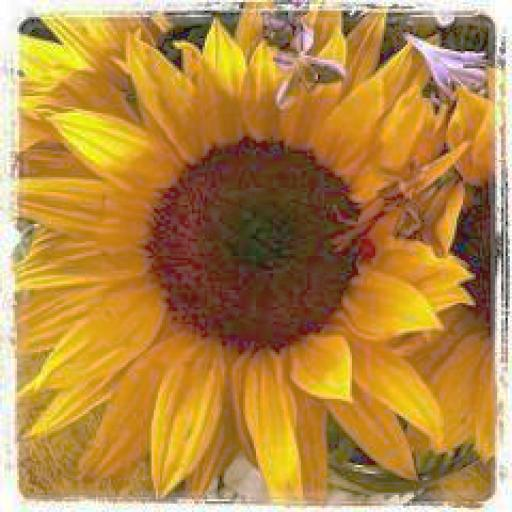sunflower: (22, 22, 484, 504)
